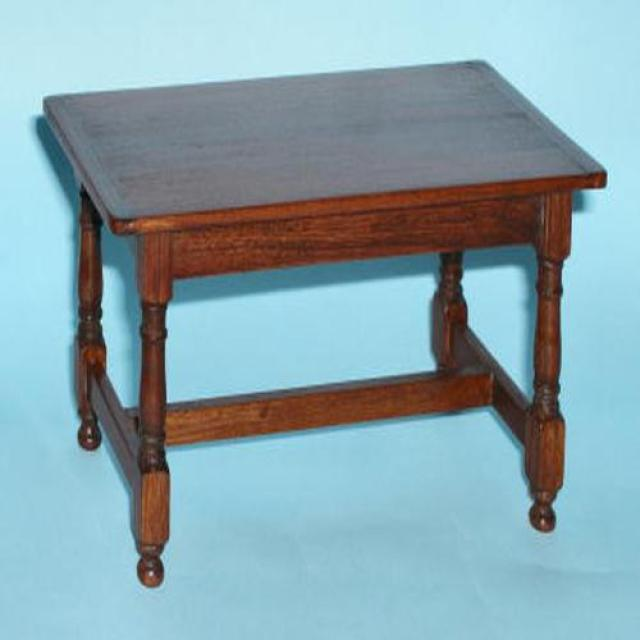table: (37, 60, 609, 591)
